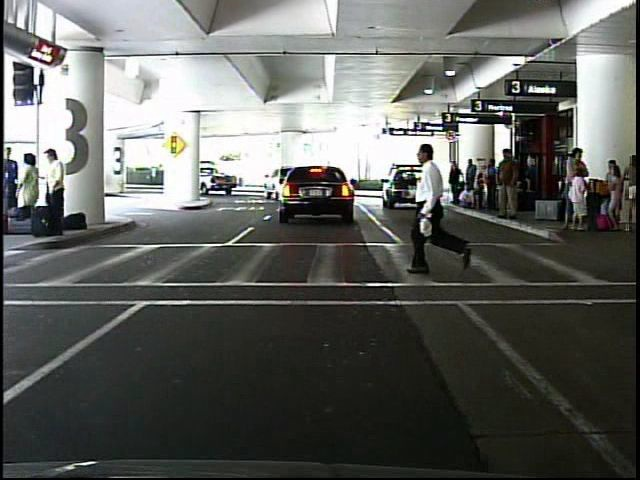person: (406, 134, 471, 284), (45, 146, 72, 240), (16, 150, 46, 233), (495, 145, 525, 225), (448, 161, 464, 205), (147, 162, 159, 188)
